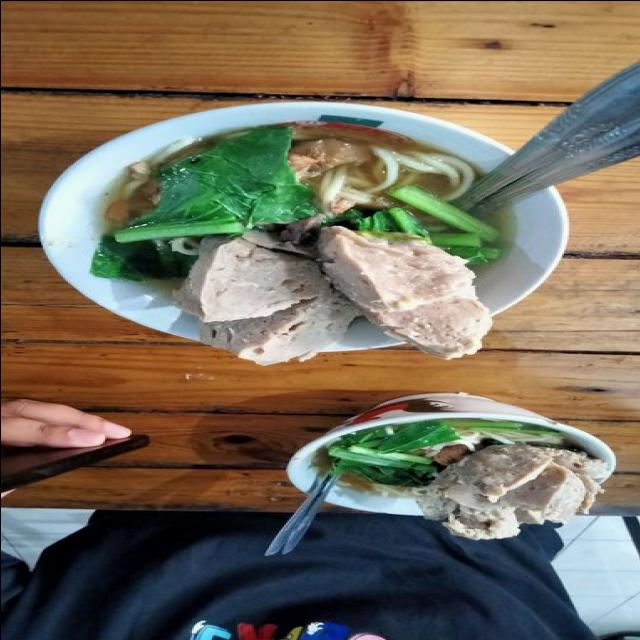bakso: (89, 124, 501, 363)
